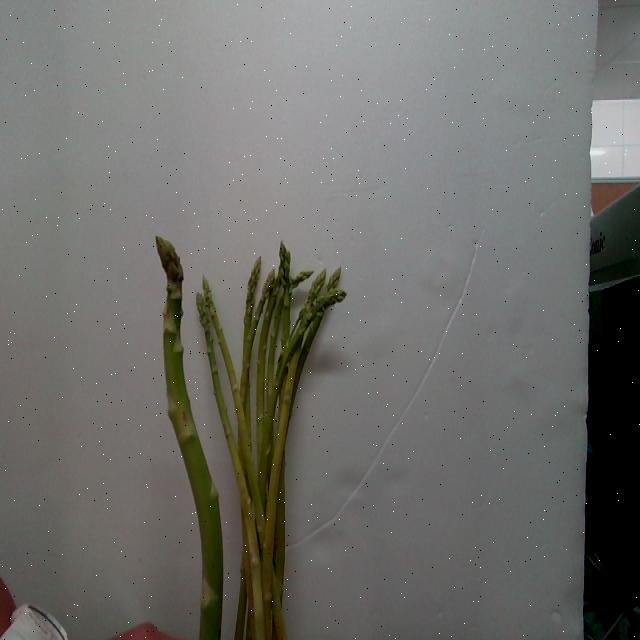aspargus: (155, 240, 224, 640)
